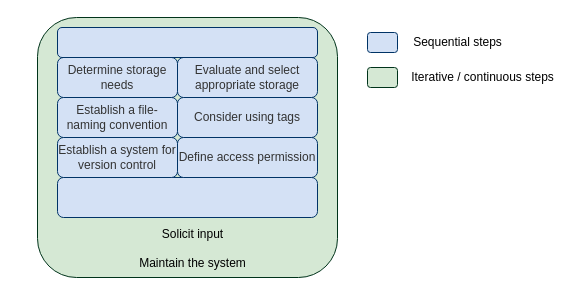
Image size: 584x296. Some labels were removed from this diagram. Each missing label, with the centre of its shape:
"Organize files into folders" goes at pixel 187 197.
"Set goals" goes at pixel 187 42.
